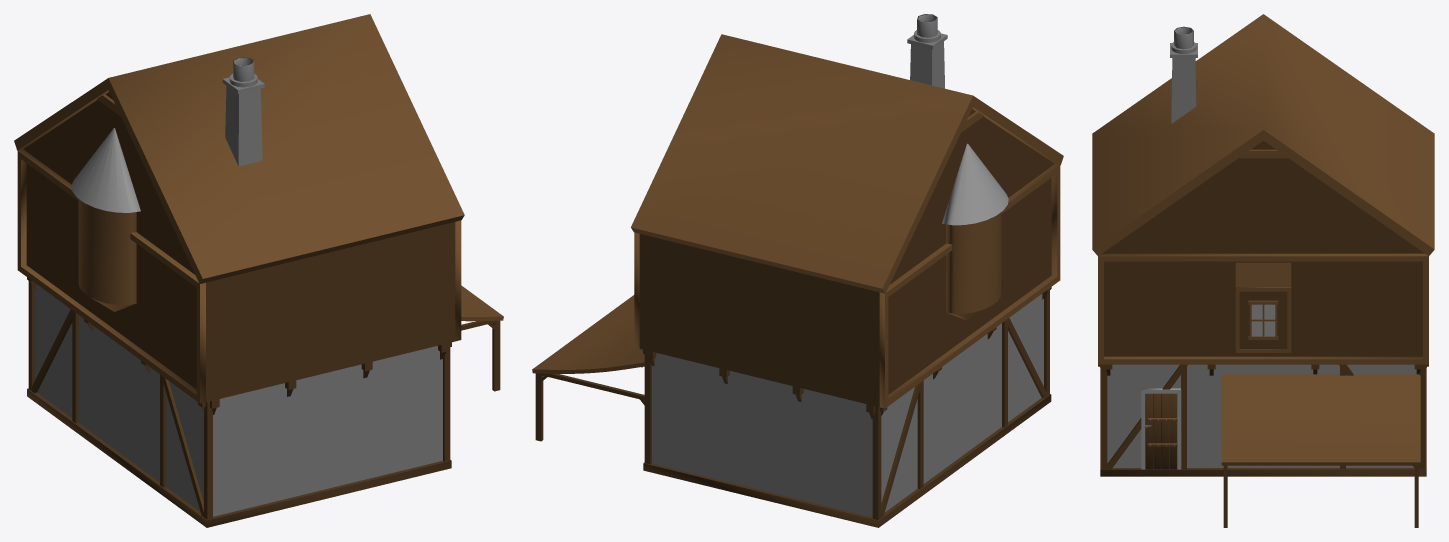
File: Medieval Houses(1).glb
3 renders of one model, left to right at view 1: azimuth 30°, elevation 25°; view 2: azimuth 150°, elevation 25°; view 3: azimuth 270°, elevation 25°, orthographic. The views are drawn at different scales.
Parts seen in each view (by area): view 1: Root; view 2: Root; view 3: Root.
Part boxes in pixels (box(x1,y1,x2,y2)): Root: box(14, 14, 503, 527); Root: box(532, 14, 1063, 527); Root: box(1092, 14, 1434, 527).
Bounding box in the file's own units: 10.49 × 10.33 × 8.58.
